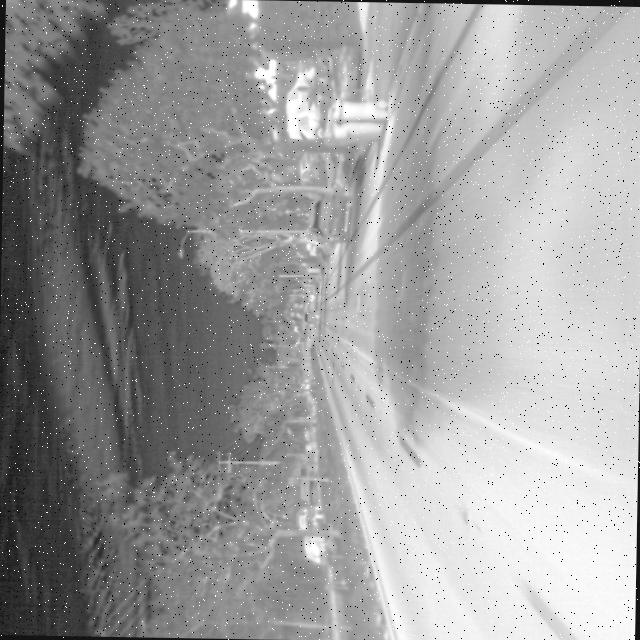Vehicle: (304, 191, 356, 244)
